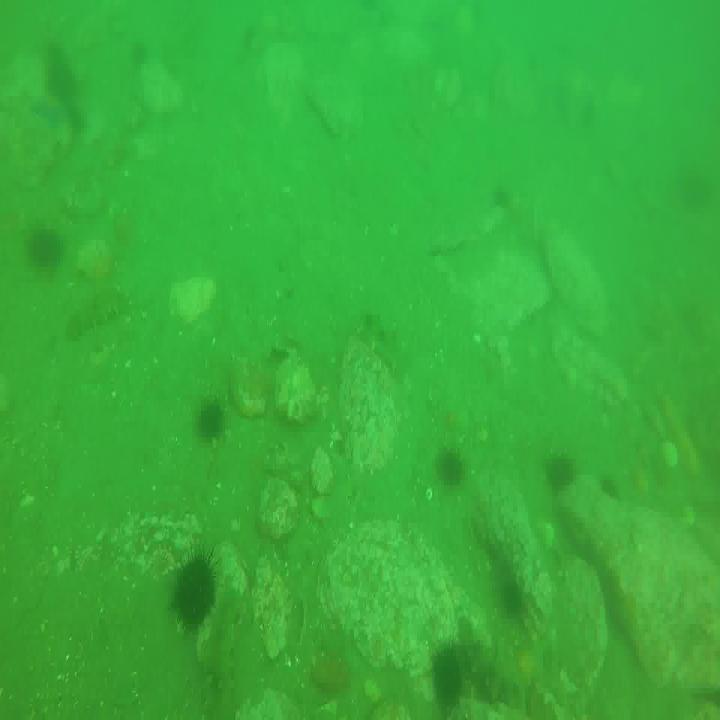echinus: (169, 557, 217, 628), (434, 640, 467, 712), (193, 395, 226, 444), (28, 224, 62, 271), (437, 441, 466, 493), (547, 453, 578, 498), (599, 468, 622, 512)
holothurian: (557, 333, 628, 409), (464, 628, 514, 715), (356, 304, 402, 376), (66, 291, 122, 345)
starfish: (36, 92, 70, 136)
